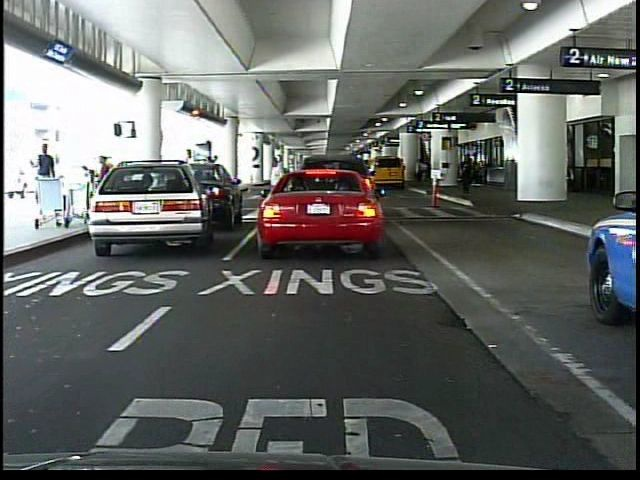person: (33, 140, 59, 222), (179, 146, 197, 224), (268, 153, 286, 205), (203, 154, 221, 204), (460, 155, 476, 195), (416, 155, 428, 188)
